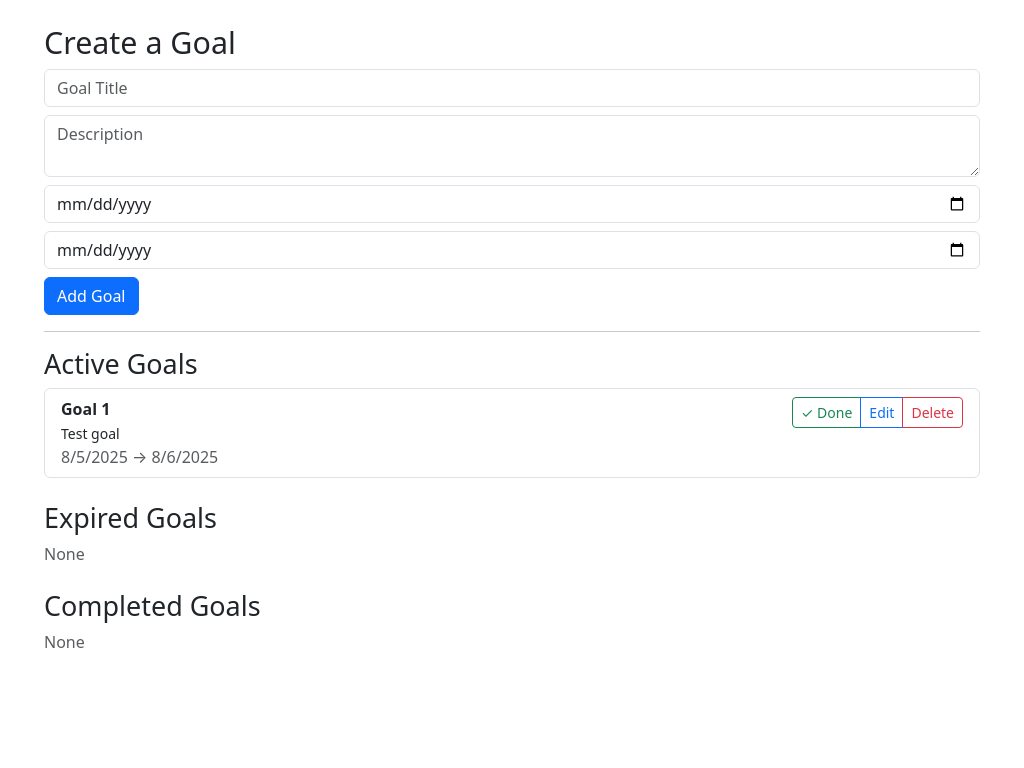
Scenario: GoalsPage › handles edit and cancel
Expected: the text "Goal 1" is shown, [61,398,110,420]
Click the button "Edit".
click(882, 412)  # box [860,397,904,428]
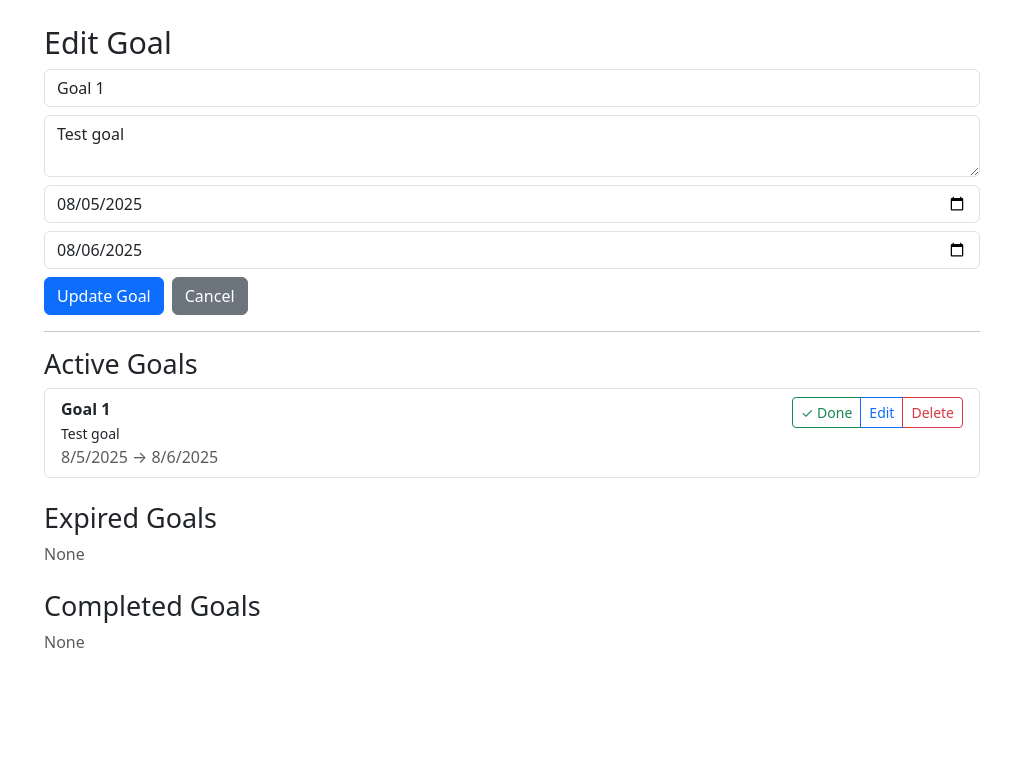
Expected: the field showing "Goal 1" is shown, [44,68,980,106]
Expected: the button "Cancel" is shown
Click the button "Cancel".
click(210, 296)  # box [172,276,248,314]
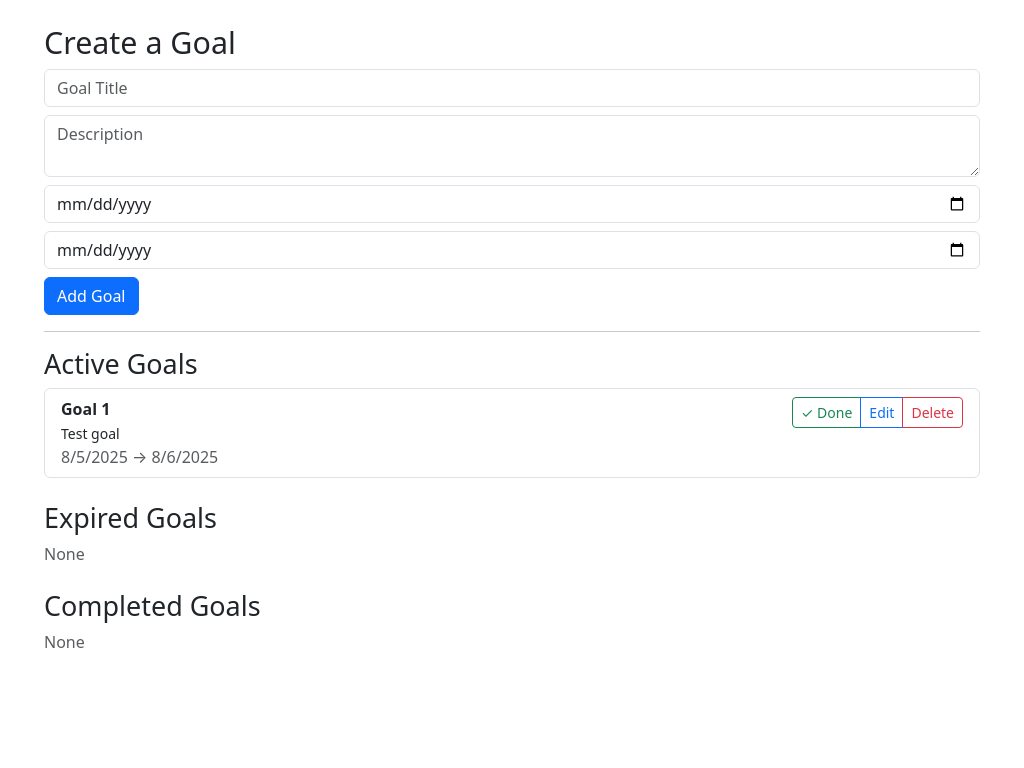
Expected: the button "Cancel" is gone
